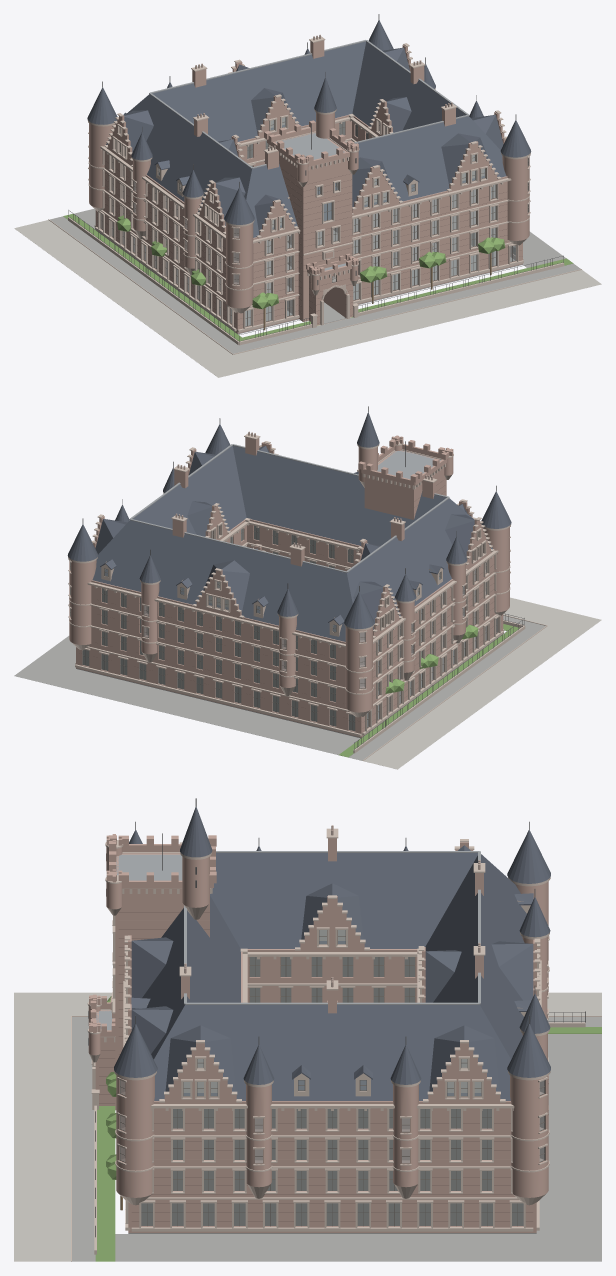
File: clay-baronial-railway-hotel-clay-v004.glb
3 views of the same model, one above another, from view 1: azimuth 30°, elevation 25°; view 2: azimuth 150°, elevation 25°; view 3: azimuth 270°, elevation 25° (orthographic). The views are drawn at different scales.
Parts seen in each view (by area): view 1: CLAY_WALL, CLAY_ROOF, CLAY_STONE, CLAY_CONCRETE, CLAY_FOUNDATION, CLAY_GLASS, CLAY_PLANTING, CLAY_TRIM, CLAY_LEAD, CLAY_FLOOR, CLAY_JOINT, CLAY_HARDWARE; view 2: CLAY_ROOF, CLAY_WALL, CLAY_STONE, CLAY_FOUNDATION, CLAY_CONCRETE, CLAY_GLASS, CLAY_TRIM, CLAY_LEAD, CLAY_PLANTING, CLAY_HARDWARE; view 3: CLAY_ROOF, CLAY_WALL, CLAY_FOUNDATION, CLAY_STONE, CLAY_CONCRETE, CLAY_GLASS, CLAY_TRIM, CLAY_LEAD, CLAY_PLANTING, CLAY_JOINT, CLAY_INTERIOR.
Part boxes in pixels (<box>): CLAY_WALL: <box>89,40,529,333</box>; CLAY_ROOF: <box>87,20,531,237</box>; CLAY_STONE: <box>48,36,581,354</box>; CLAY_CONCRETE: <box>14,220,601,377</box>; CLAY_FOUNDATION: <box>50,208,580,353</box>; CLAY_GLASS: <box>101,117,528,326</box>; CLAY_PLANTING: <box>63,214,573,341</box>; CLAY_TRIM: <box>100,117,528,326</box>; CLAY_LEAD: <box>149,40,469,270</box>; CLAY_FLOOR: <box>113,167,495,292</box>; CLAY_JOINT: <box>97,161,522,325</box>; CLAY_HARDWARE: <box>68,14,563,341</box>; CLAY_ROOF: <box>67,412,511,641</box>; CLAY_WALL: <box>69,435,509,737</box>; CLAY_STONE: <box>68,433,547,760</box>; CLAY_FOUNDATION: <box>14,615,545,760</box>; CLAY_CONCRETE: <box>363,597,601,769</box>; CLAY_GLASS: <box>70,525,497,731</box>; CLAY_TRIM: <box>70,525,498,731</box>; CLAY_LEAD: <box>129,444,449,572</box>; CLAY_PLANTING: <box>339,624,519,757</box>; CLAY_HARDWARE: <box>82,406,524,749</box>; CLAY_ROOF: <box>114,806,550,1100</box>; CLAY_WALL: <box>88,834,548,1232</box>; CLAY_FOUNDATION: <box>72,1017,601,1261</box>; CLAY_STONE: <box>71,828,601,1261</box>; CLAY_CONCRETE: <box>14,992,601,1261</box>; CLAY_GLASS: <box>120,930,544,1225</box>; CLAY_TRIM: <box>119,930,545,1226</box>; CLAY_LEAD: <box>96,851,480,1030</box>; CLAY_PLANTING: <box>95,996,601,1261</box>; CLAY_JOINT: <box>99,912,532,1221</box>; CLAY_INTERIOR: <box>183,930,481,1092</box>.
Bounding box in the file's own units: 78 × 42.4 × 72.
